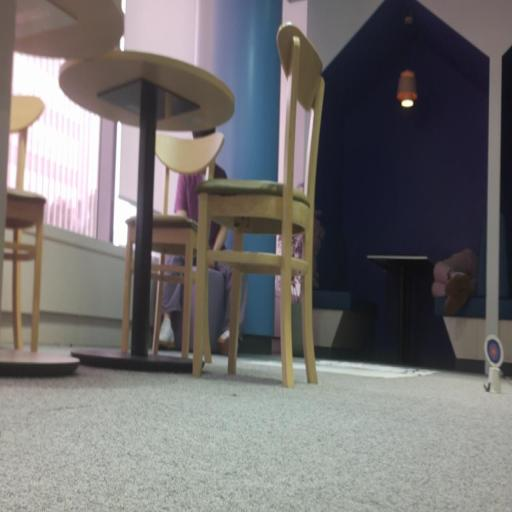target: (484, 335, 504, 368)
